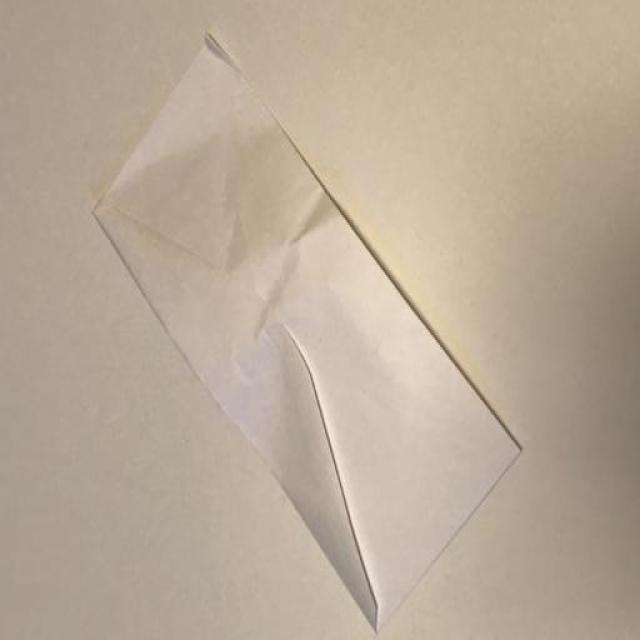paper: (90, 29, 522, 634)
